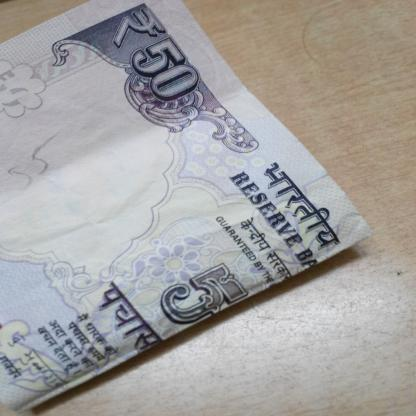Old50Front: (0, 0, 375, 413)
